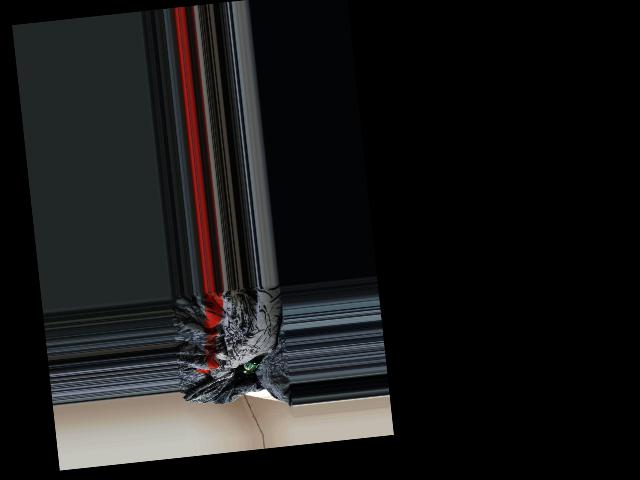beer: (233, 355, 263, 377)
